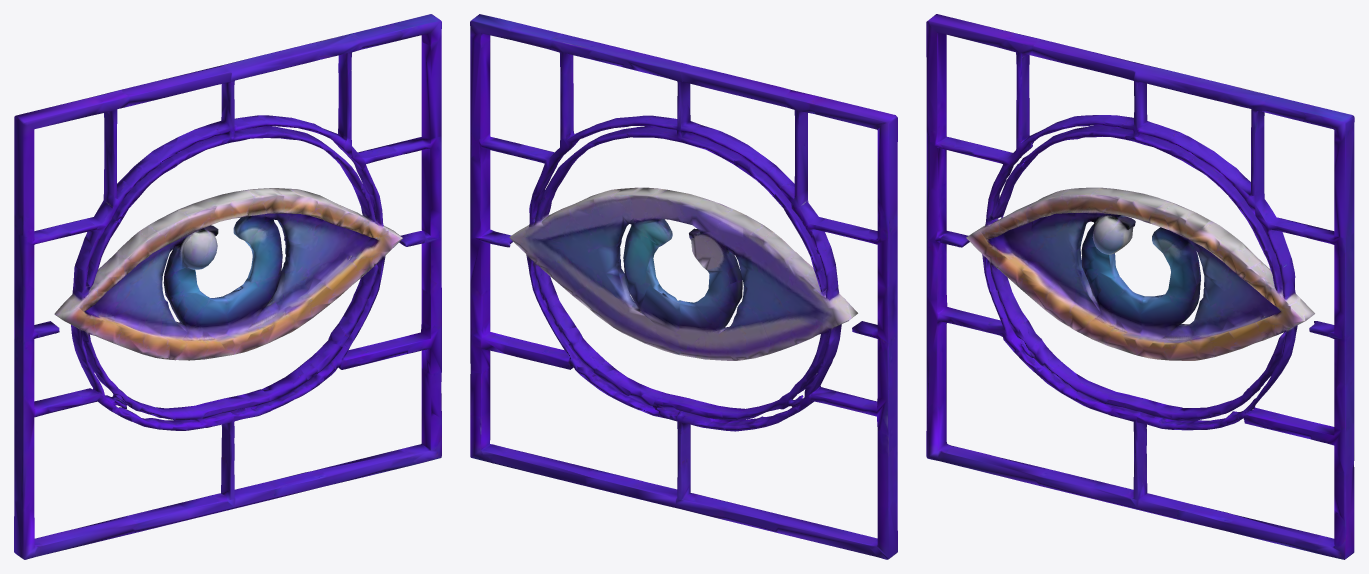
Rendered from VisionaryEye.glb.
The picture shows the model from 3 angles, left to right: view 1: azimuth 30°, elevation 25°; view 2: azimuth 150°, elevation 25°; view 3: azimuth 330°, elevation 25°; orthographic projection.
Size of the model in its own units: 2 by 2 by 0.1181.
Materials: 1 (1 with a texture image).
